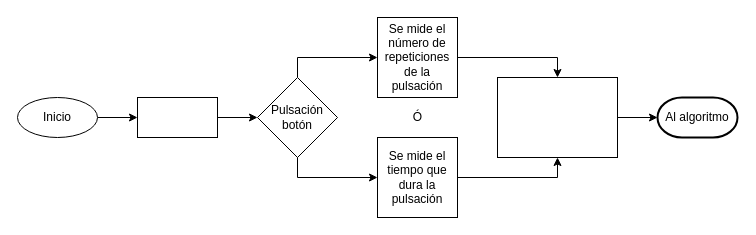
This 756x235 diagram has some shape labels left out. The shapes that lost their labels are listed below. From the top down, each one's box as (x1, y1, x2, y2) in pixels, then its label:
(136, 96, 218, 138): Teclado
(496, 76, 618, 158): Se determina el movimiento a realizar, mediante un vector u otro valor numérico
